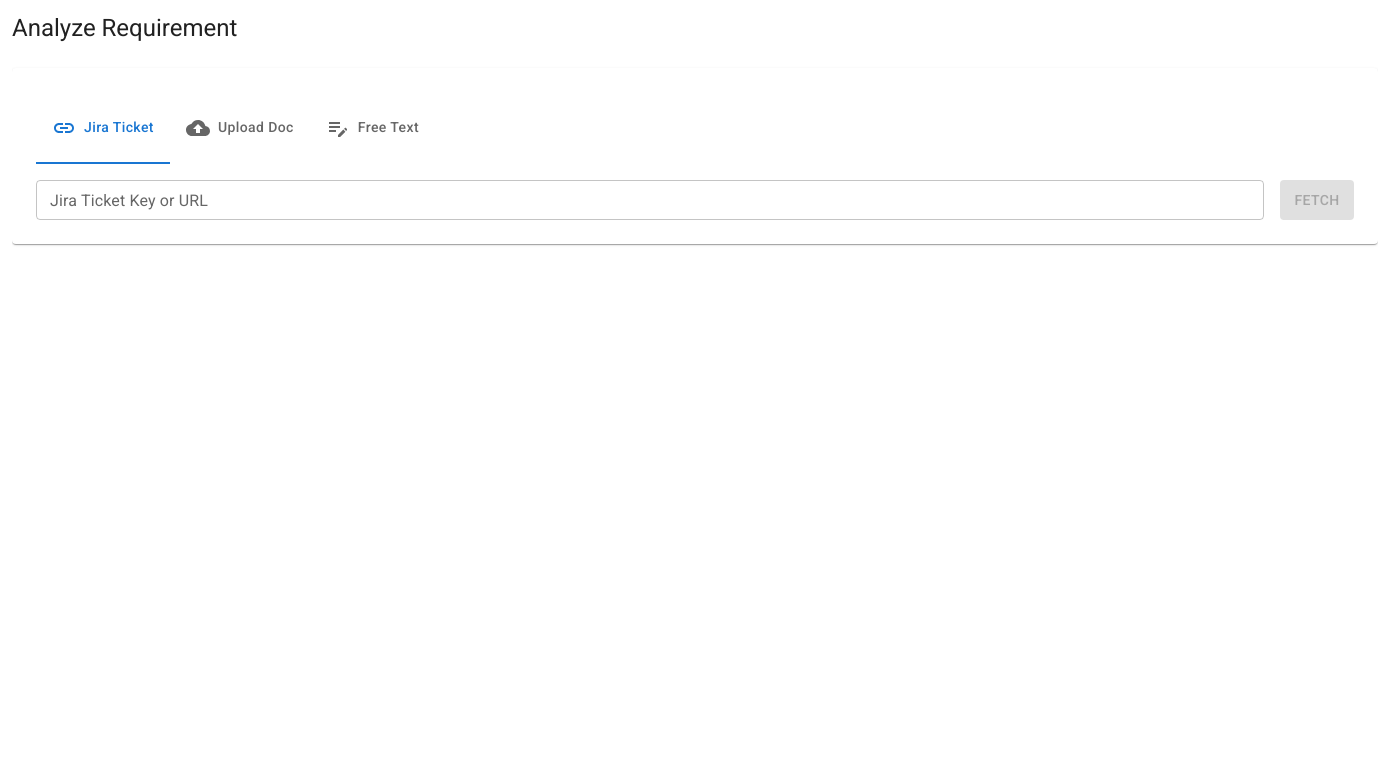
Test: RequirementIntakePage › starts analysis and shows clarification chat
Click the tab "Free Text" at (372, 128), box x1=310 y1=92 x2=435 y2=164
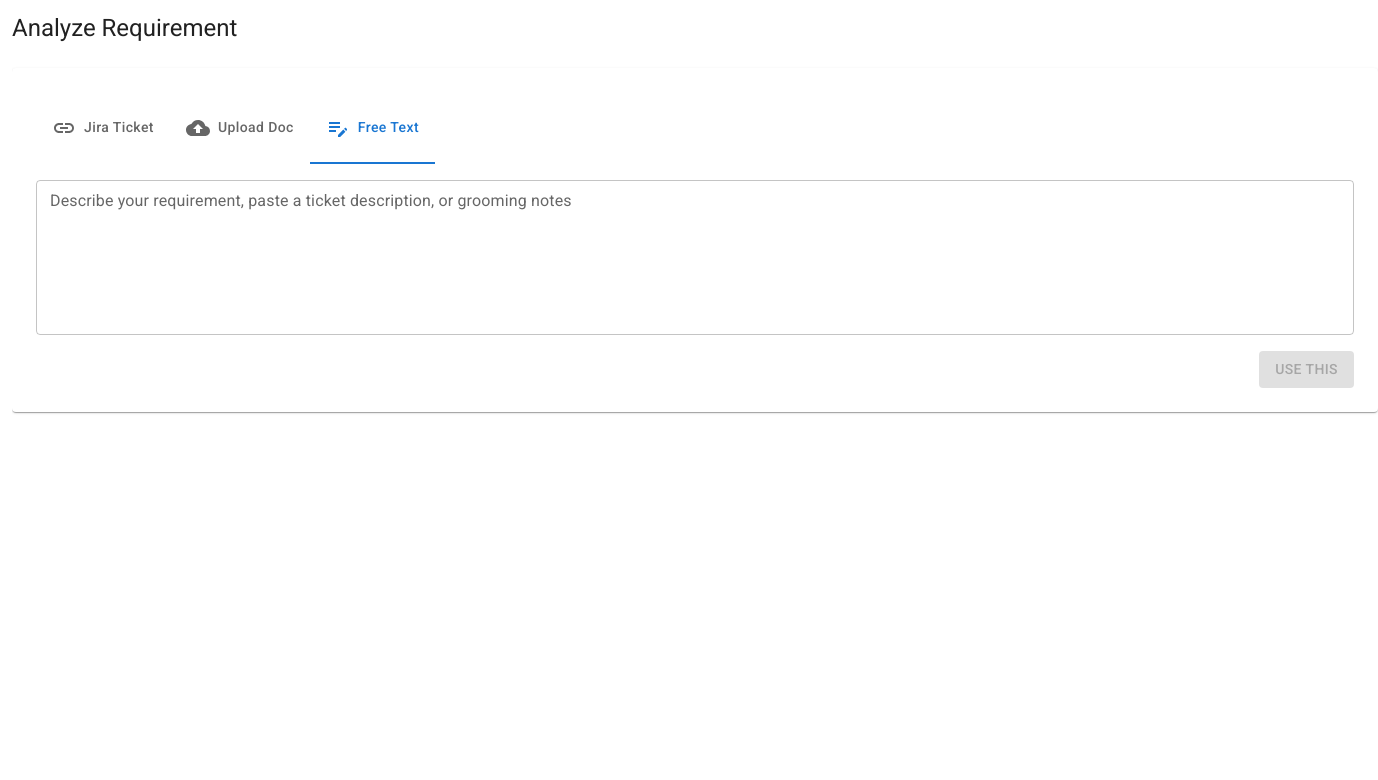
Type "Add caching" into the text box labelled "Describe your requirement" at (695, 258), box x1=50 y1=188 x2=1340 y2=326
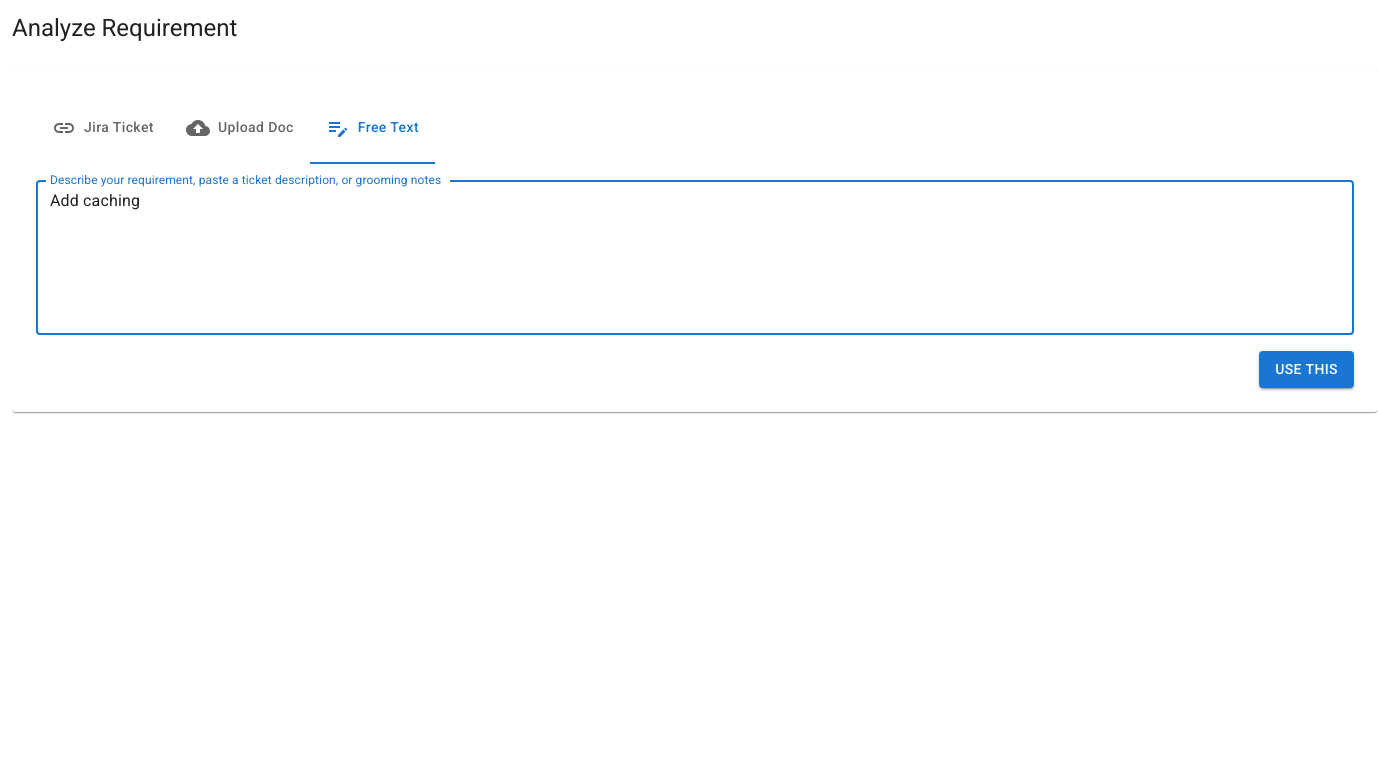
Click the button "Use This" at (1307, 369), box x1=1259 y1=351 x2=1354 y2=388
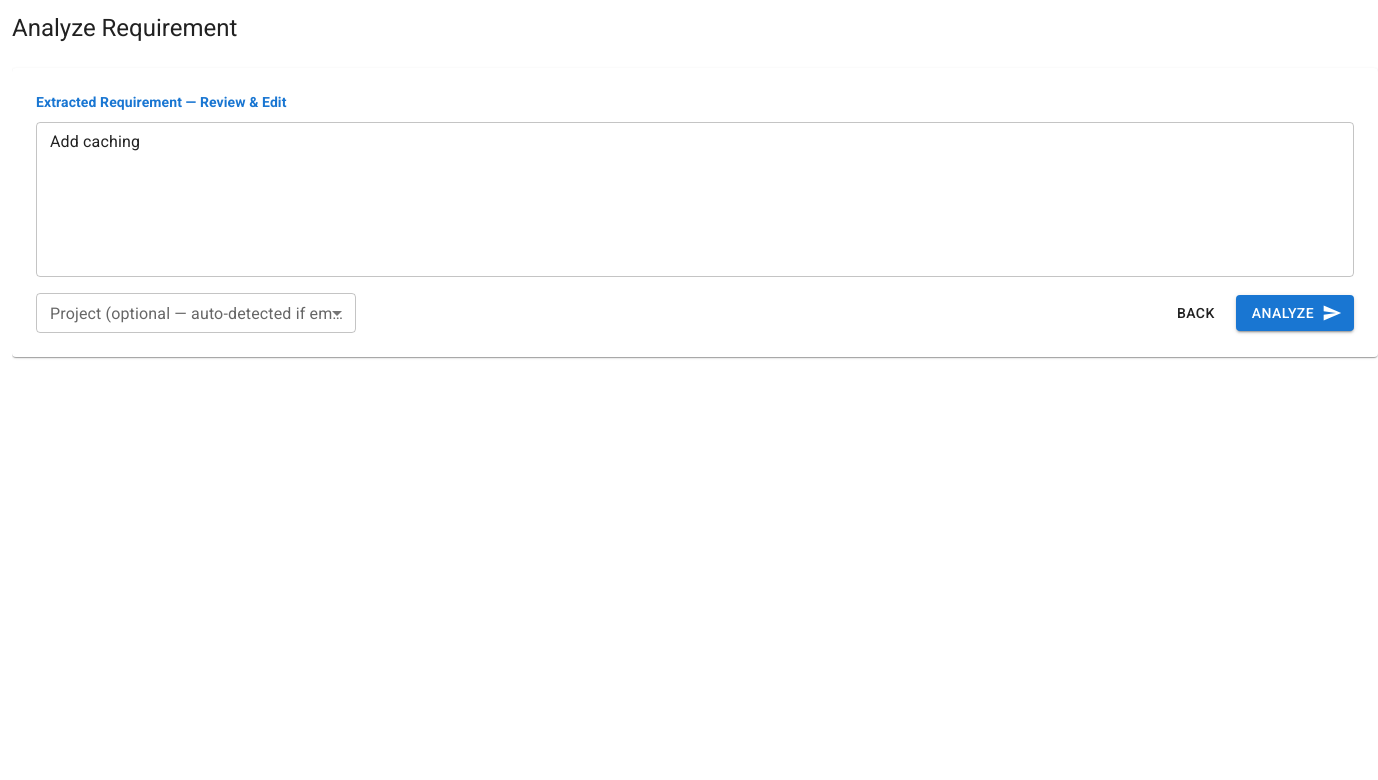
Expected: the heading "Extracted Requirement — Review & Edit" is shown, x1=36 y1=94 x2=286 y2=110
Click the dropdown named "Project" at (196, 313), box x1=36 y1=293 x2=356 y2=333
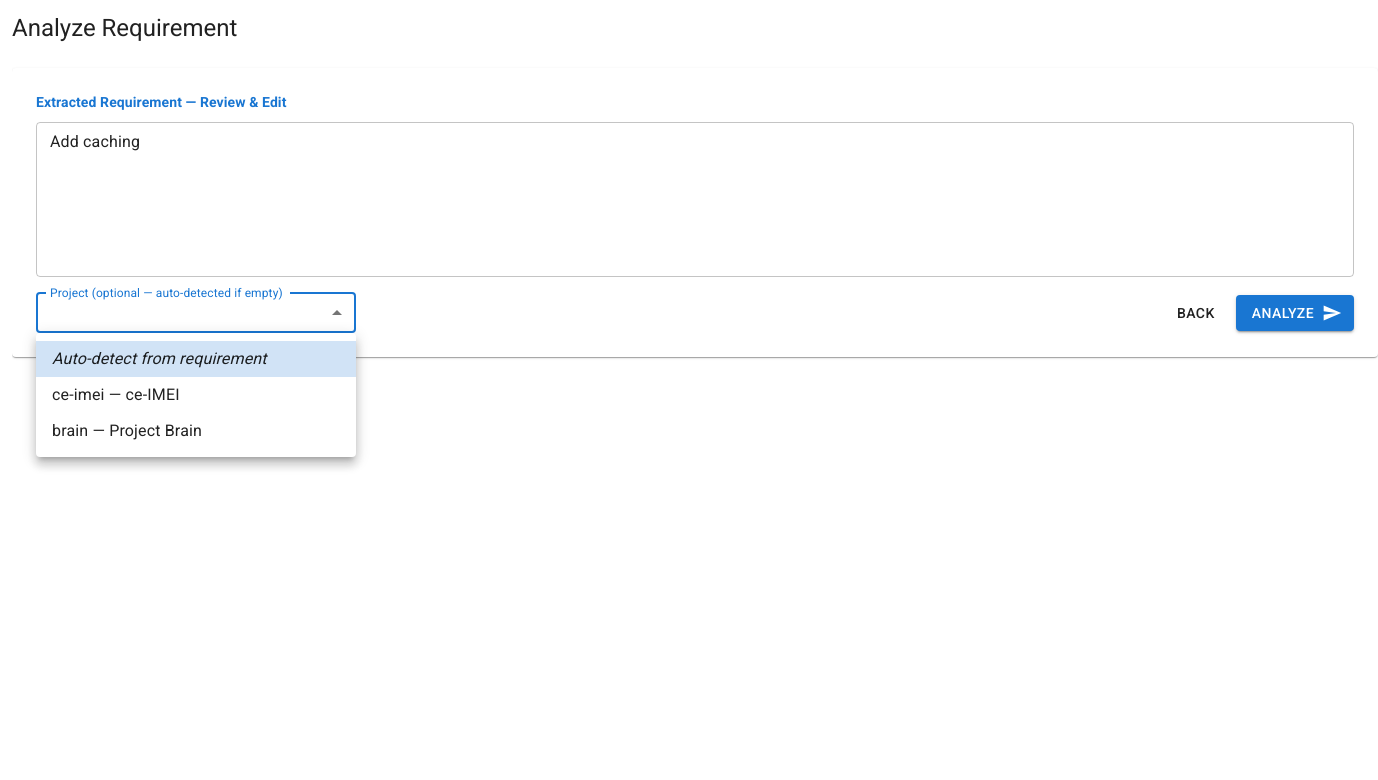
Expected: the option "ce-imei — ce-IMEI" is shown
Click the option "ce-imei — ce-IMEI" at (116, 394), box x1=52 y1=385 x2=180 y2=404
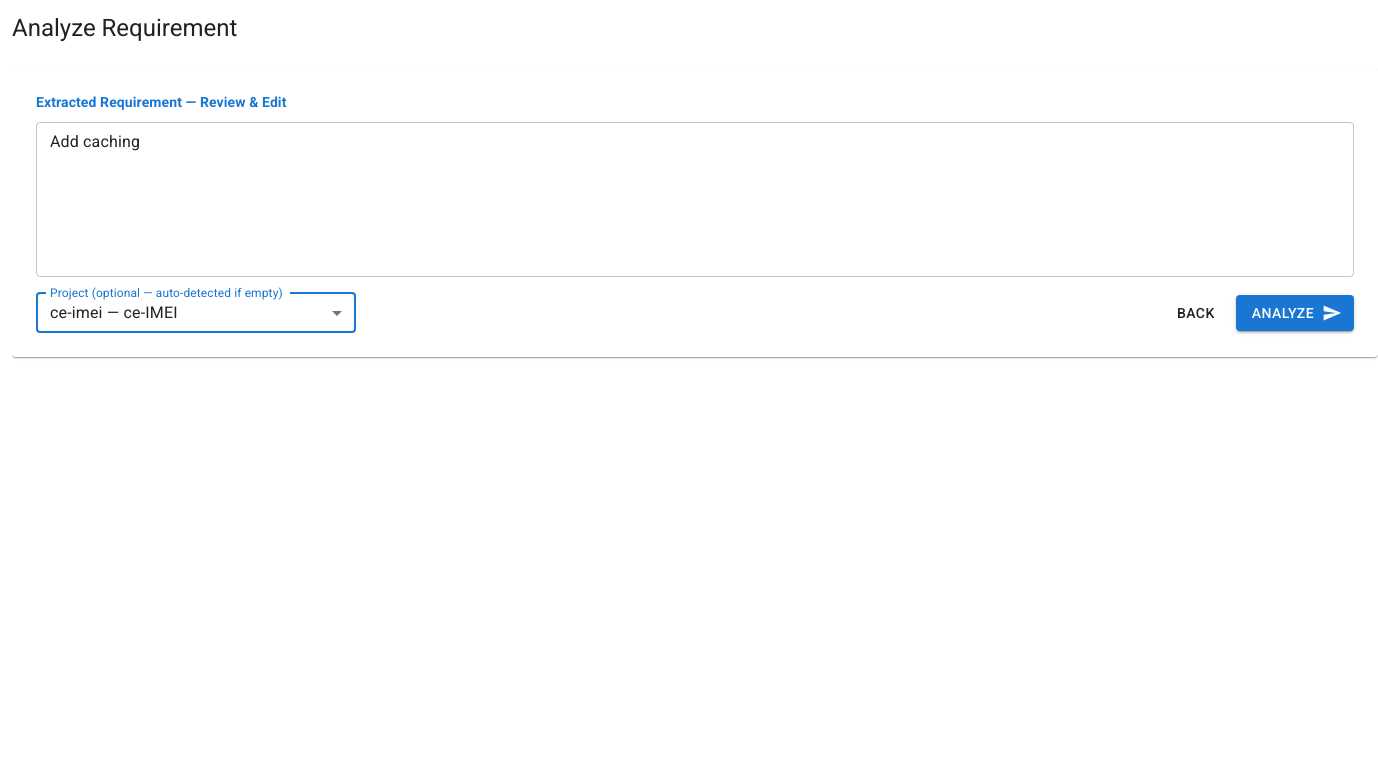
Click the button "Analyze" at (1295, 313), box x1=1236 y1=295 x2=1354 y2=331
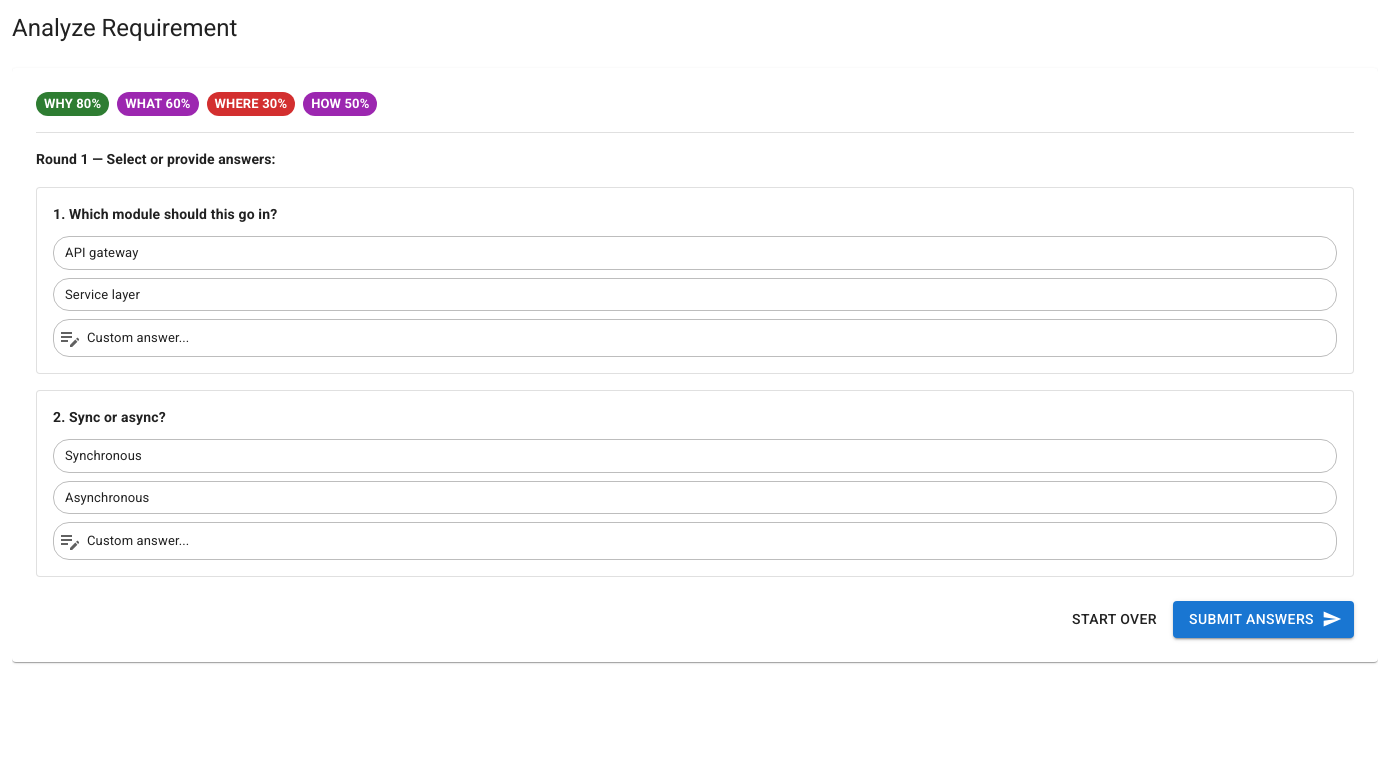
Expected: the text "1. Which module should this go in?" is shown, x1=53 y1=206 x2=277 y2=222
Expected: the text "WHY 80%" is shown, x1=44 y1=96 x2=101 y2=111
